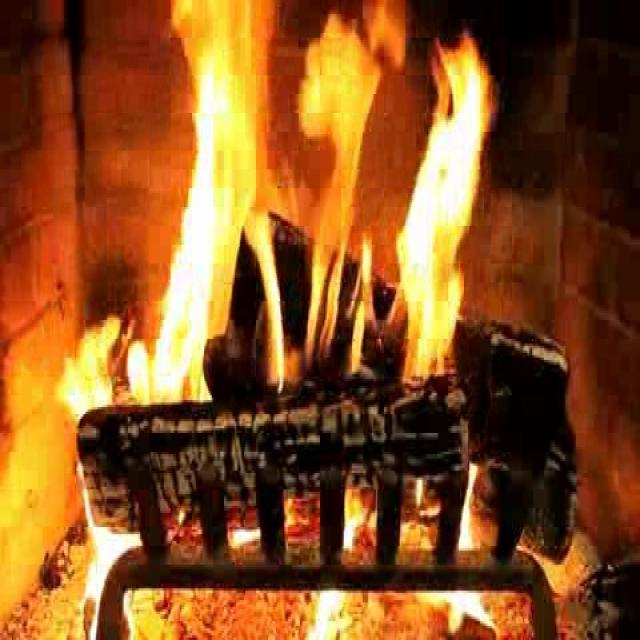fire: (139, 0, 486, 400)
